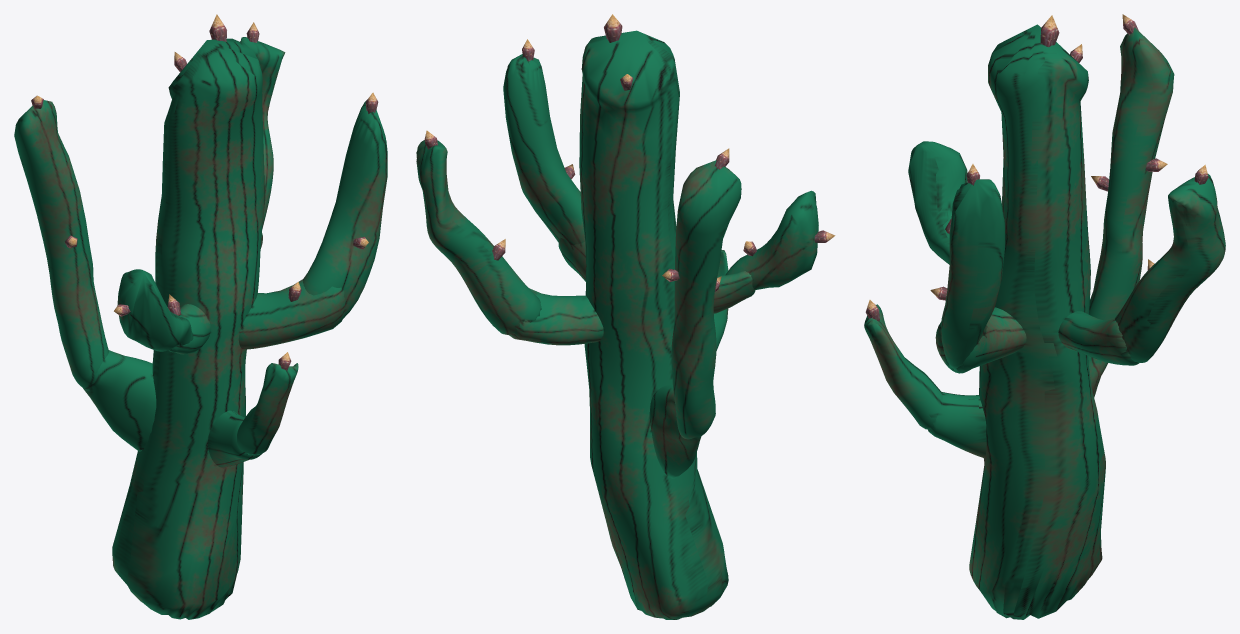
The model's file is Cactus_01.FBX.
3 views of the same model, side by side, from view 1: azimuth 30°, elevation 25°; view 2: azimuth 150°, elevation 25°; view 3: azimuth 270°, elevation 25° (orthographic). The views are drawn at different scales.
Visible parts, largest first — view 1: Cylinder001, cactus_01; view 2: Cylinder001, cactus_01; view 3: Cylinder001, cactus_01.
Boxes of the visible parts, x1,y1,x2,y2 form: Cylinder001: [14, 37, 387, 619]; cactus_01: [31, 14, 378, 370]; Cylinder001: [416, 30, 818, 619]; cactus_01: [424, 14, 835, 292]; Cylinder001: [864, 24, 1225, 619]; cactus_01: [865, 14, 1208, 320].
Bounding box in the file's own units: 66.8 × 126 × 66.56.
Materials: 2 (2 with a texture image).
